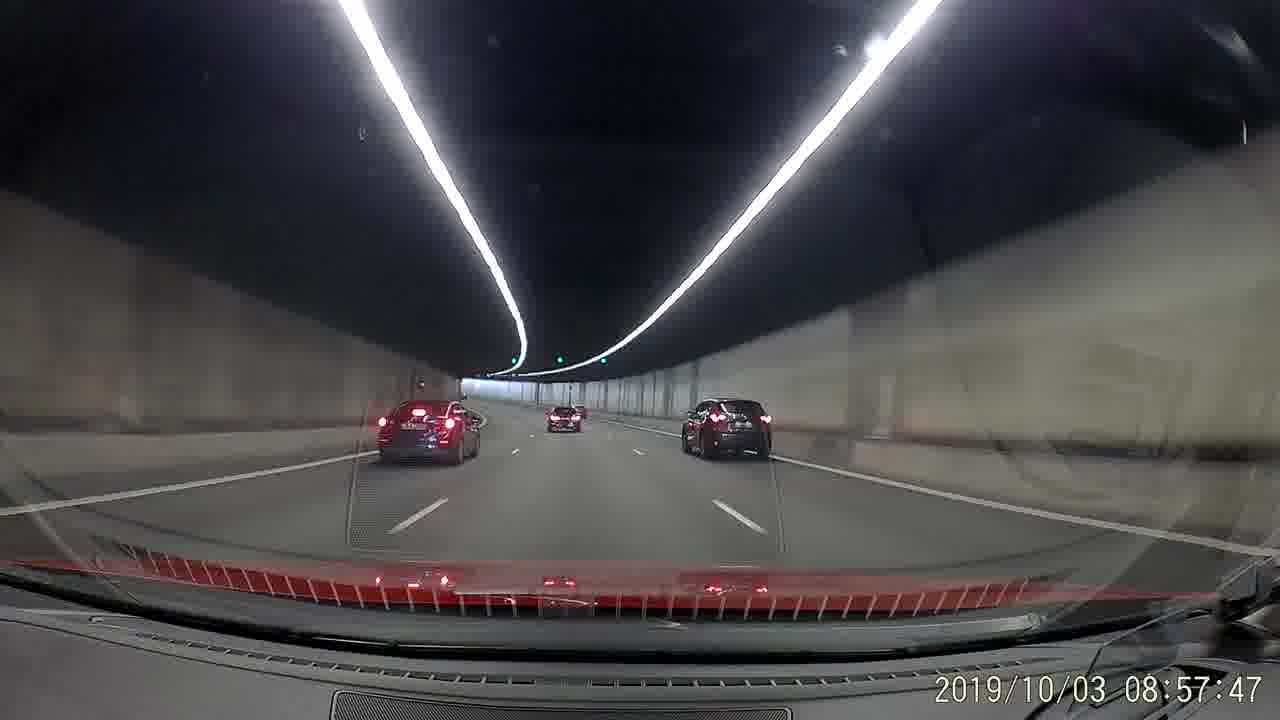car: (376, 397, 482, 468), (678, 395, 773, 464), (546, 405, 582, 434)
